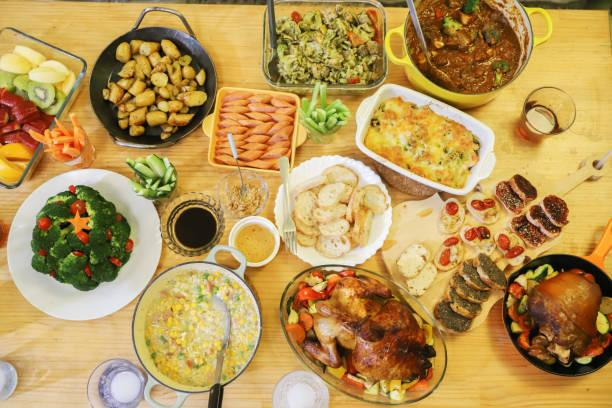Braised Crucian Carp: (279, 262, 442, 405), (7, 168, 160, 320), (383, 0, 546, 110), (131, 259, 259, 399), (88, 28, 223, 149), (358, 95, 504, 187), (503, 254, 610, 376), (277, 154, 390, 267), (261, 0, 385, 96)
